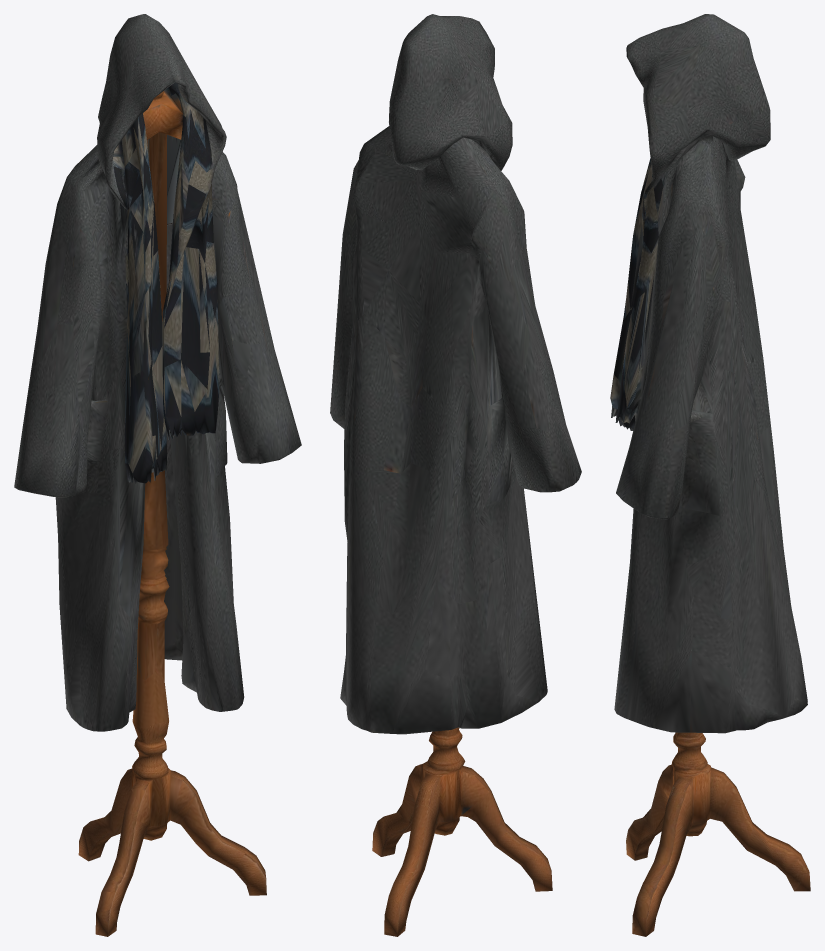
The model's file is coat_rack.glb.
The picture shows the model from 3 angles, left to right: view 1: azimuth 30°, elevation 25°; view 2: azimuth 150°, elevation 25°; view 3: azimuth 270°, elevation 25°; orthographic projection.
Visible parts, largest first — view 1: body; view 2: body; view 3: body.
Part boxes in pixels (x1,y1,x2,y2): body: (14, 14, 301, 936); body: (330, 14, 581, 936); body: (610, 14, 810, 936).
Size of the model in its own units: 0.5815 by 1.85 by 0.3826.
Materials: 1 (1 with a texture image).
